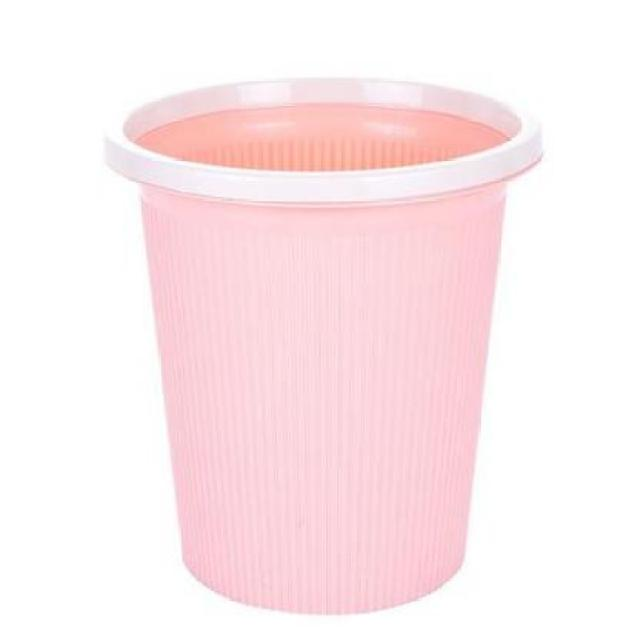dustbin: (99, 67, 548, 618)
